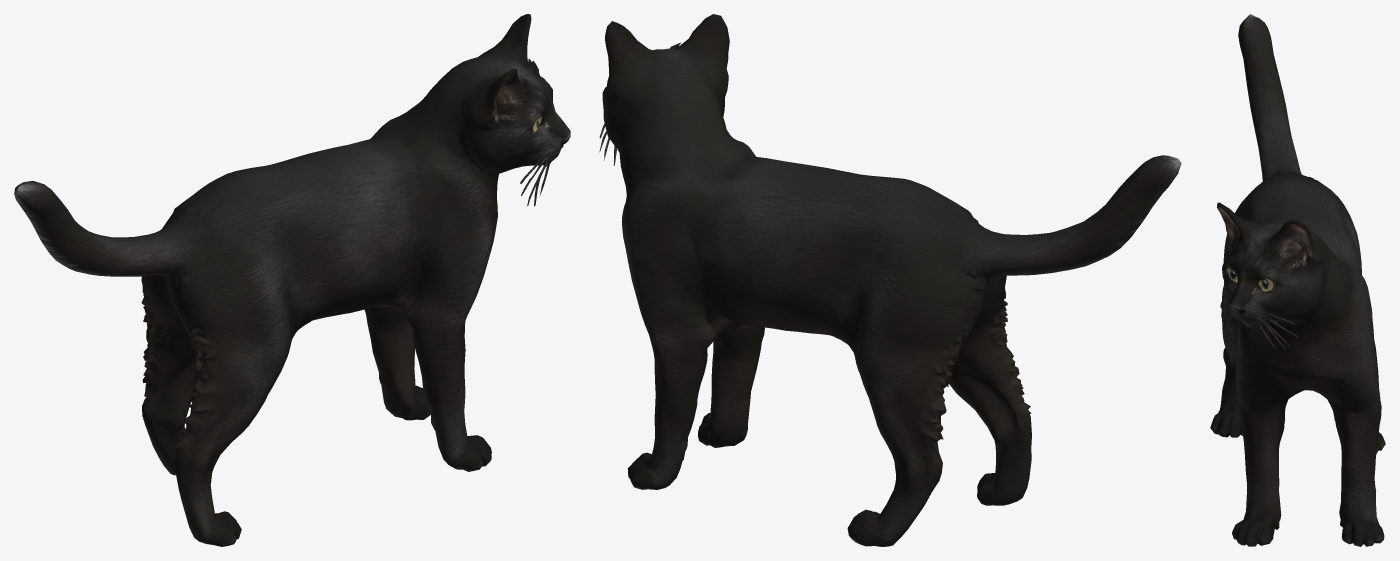
Rendered from RURUNEKO.glb.
The picture shows the model from 3 angles, left to right: view 1: azimuth 30°, elevation 25°; view 2: azimuth 150°, elevation 25°; view 3: azimuth 270°, elevation 25°; orthographic projection. The views are drawn at different scales.
Parts seen in each view (by area): view 1: tripo_node_0b799eae-2027-4b4a-a15a-befcee829d29; view 2: tripo_node_0b799eae-2027-4b4a-a15a-befcee829d29; view 3: tripo_node_0b799eae-2027-4b4a-a15a-befcee829d29.
Part boxes in pixels (x1,y1,x2,y2): tripo_node_0b799eae-2027-4b4a-a15a-befcee829d29: (14, 14, 570, 546); tripo_node_0b799eae-2027-4b4a-a15a-befcee829d29: (599, 14, 1181, 546); tripo_node_0b799eae-2027-4b4a-a15a-befcee829d29: (1210, 14, 1385, 546).
Size of the model in its own units: 1.39 by 1 by 0.4426.
1 material, 1 textured.
